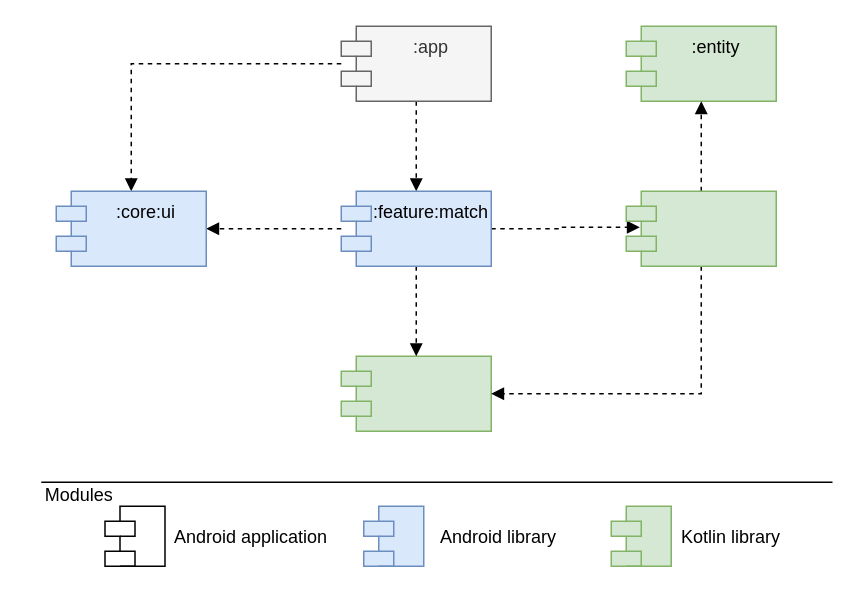
This 858x593 diagram has some shape labels left out. Here are the shapes that lost their labels. From the top down, the box of each, then its label:
(625, 190, 776, 266): :domain
(340, 355, 491, 431): :core:common
